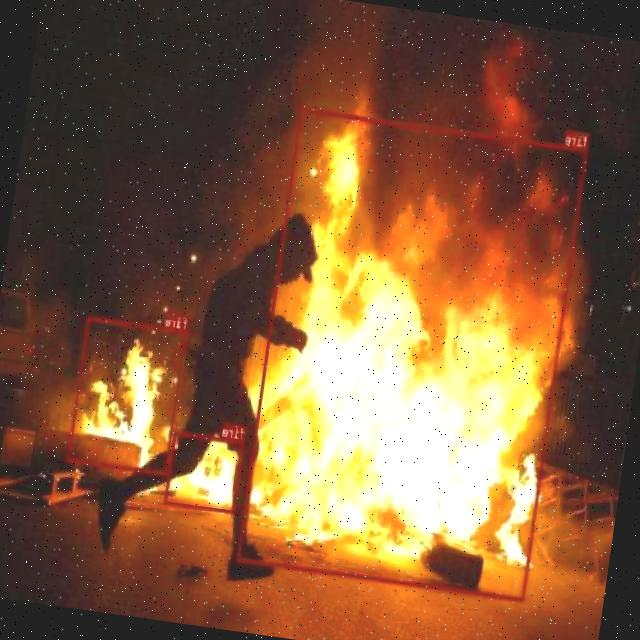fire: (237, 109, 589, 602), (66, 315, 188, 476), (164, 431, 245, 514)
